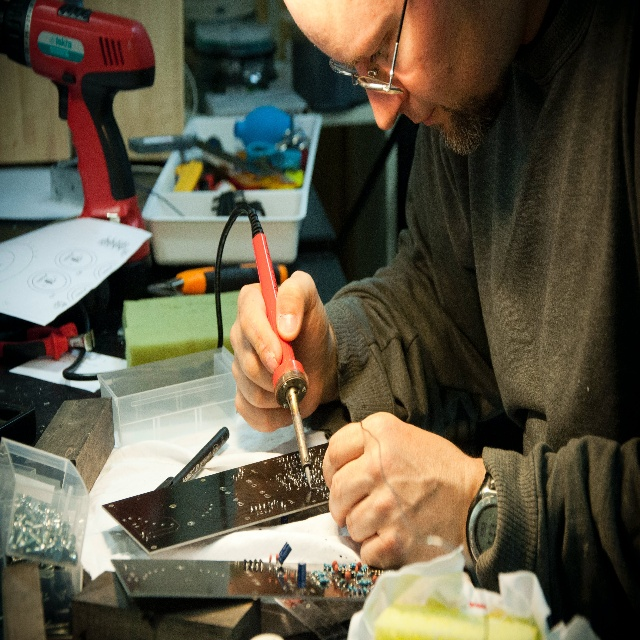Gafas: (329, 0, 408, 95)
Sin_guantes: (320, 409, 465, 569), (229, 269, 332, 434)
